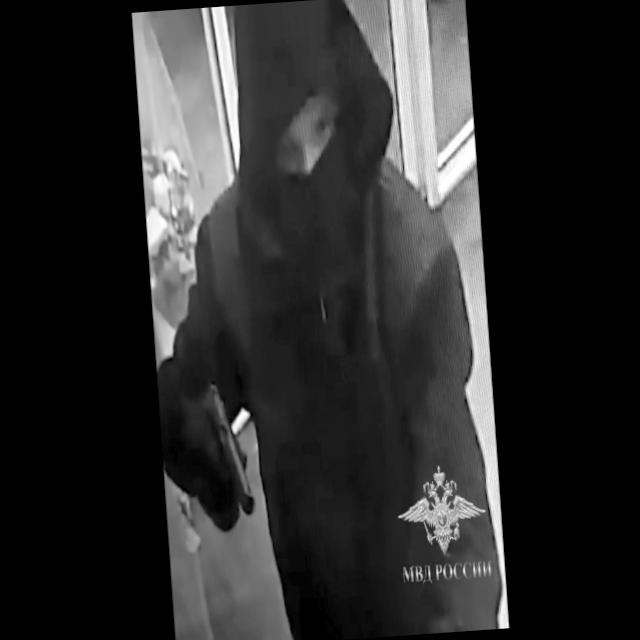gun: (186, 374, 261, 540)
person with a gun: (130, 0, 489, 640)
